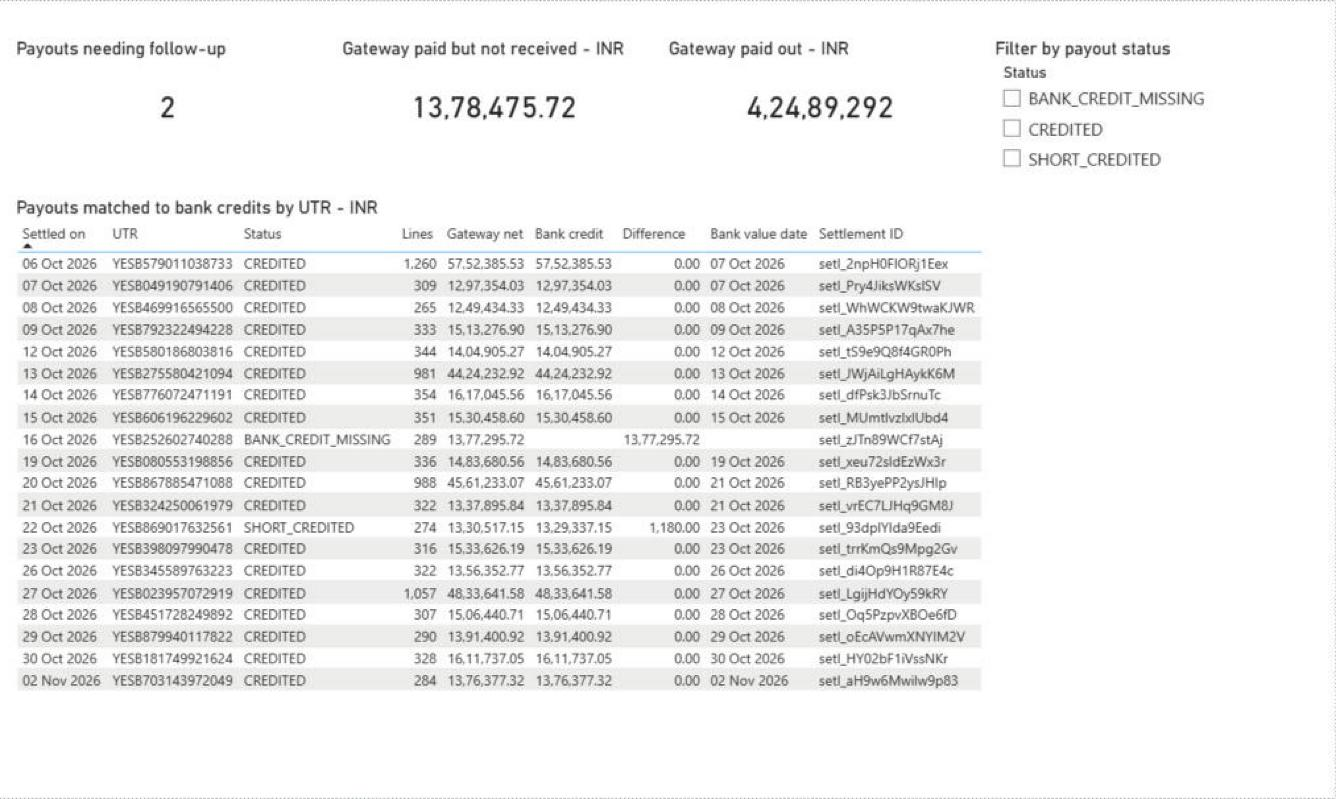

This screenshot's page, from the dashboard's own definition file:
{"tool":"powerbi","page":{"name":"Payouts","canvas":[1280,740],"ordinal":1},"visuals":[{"type":"card","title":"Payouts needing follow-up","fields":{"Values":["Payouts.Payouts needing follow-up"]},"box":[12,12,300,110],"z":0},{"type":"card","title":"Gateway paid but not received - INR","fields":{"Values":["Payouts.Payout gap INR"]},"box":[324,12,300,110],"z":1},{"type":"card","title":"Gateway paid out - INR","fields":{"Values":["Payouts.Gateway paid INR"]},"box":[636,12,300,110],"z":2},{"type":"slicer","title":"Filter by payout status","fields":{"Values":["Payouts.Status"]},"box":[948,12,320,140],"z":3},{"type":"tableEx","title":"Payouts matched to bank credits by UTR - INR","fields":{"Values":["Payouts.Settled on","Payouts.UTR","Payouts.Status","Payouts.Lines","Payouts.Gateway net","Payouts.Bank credit","Payouts.Difference","Payouts.Bank value date","Payouts.Settlement ID"]},"box":[12,164,1256,564],"z":4}]}

Visuals, with their boxes on the page's 1280x740 design canvas (x1, y1, x2, y2). These are canvas units, not pixel positions in the 1336x799 screenshot, which may show the page scaled, cropped or inside an application window:
"Payouts needing follow-up" card: {"x1": 12, "y1": 12, "x2": 312, "y2": 122}
"Gateway paid but not received - INR" card: {"x1": 324, "y1": 12, "x2": 624, "y2": 122}
"Gateway paid out - INR" card: {"x1": 636, "y1": 12, "x2": 936, "y2": 122}
"Filter by payout status" slicer: {"x1": 948, "y1": 12, "x2": 1268, "y2": 152}
"Payouts matched to bank credits by UTR - INR" tableEx: {"x1": 12, "y1": 164, "x2": 1268, "y2": 728}
